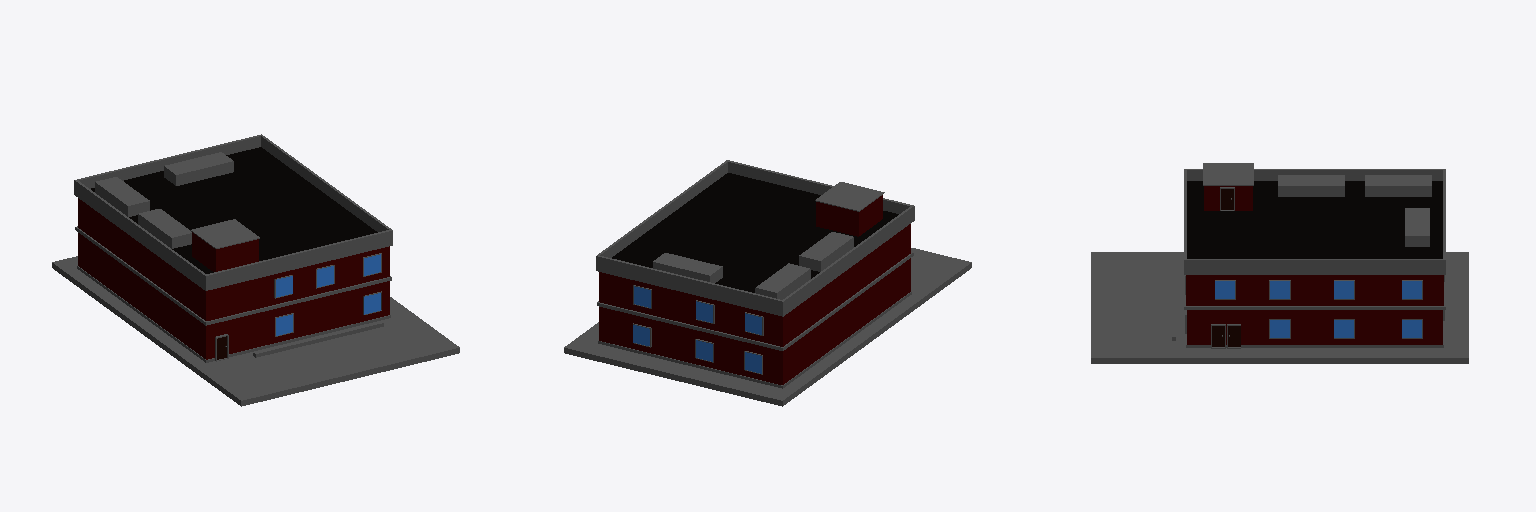
Rendered from 2StoryApartment.obj.
3 renders of one model, left to right at view 1: azimuth 30°, elevation 25°; view 2: azimuth 150°, elevation 25°; view 3: azimuth 270°, elevation 25°, orthographic.
Visible parts, largest first — view 1: Road_End_RoadEnd; view 2: Road_End_RoadEnd; view 3: Road_End_RoadEnd.
Boxes of the visible parts, x1=… form: Road_End_RoadEnd: x1=52, y1=134, x2=459, y2=406; Road_End_RoadEnd: x1=564, y1=160, x2=971, y2=406; Road_End_RoadEnd: x1=1091, y1=163, x2=1468, y2=363.
Size of the model in its own units: 20 by 9.55 by 30.